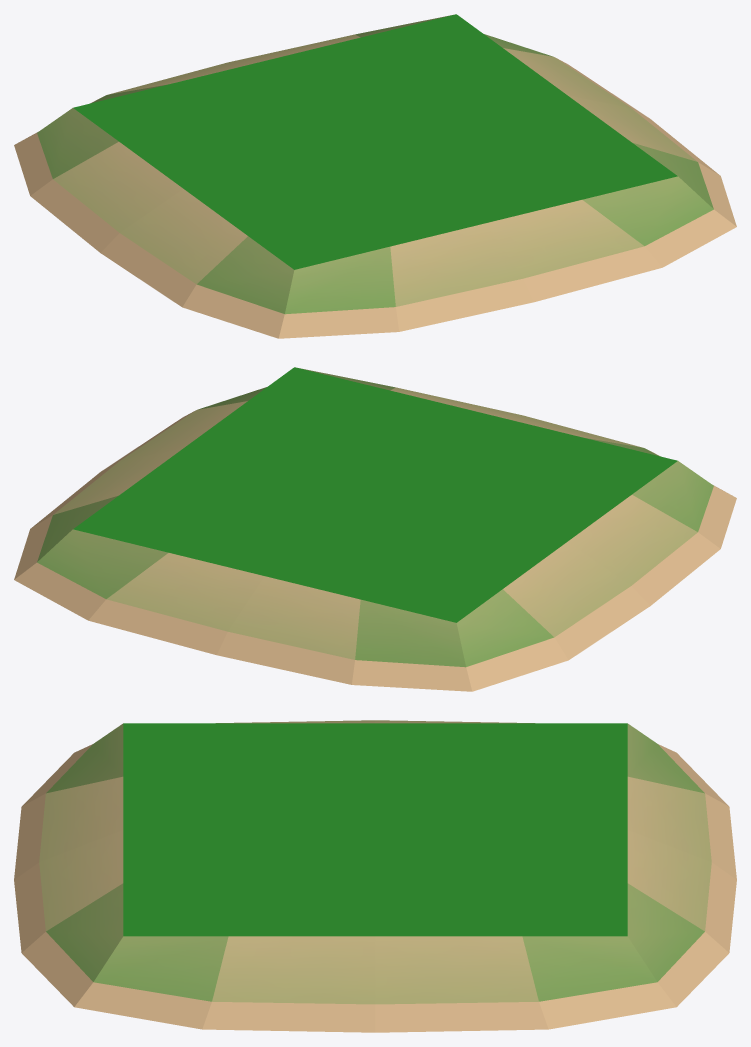
The model's file is KingdomIsland.fbx.
3 views of the same model, one above another, from view 1: azimuth 30°, elevation 25°; view 2: azimuth 150°, elevation 25°; view 3: azimuth 270°, elevation 25° (orthographic). The views are drawn at different scales.
Visible parts, largest first — view 1: Island; view 2: Island; view 3: Island.
Part boxes in pixels (x1,y1,x2,y2): Island: (14,14,736,338); Island: (14,367,736,691); Island: (14,720,736,1032).
Size of the model in its own units: 1293 by 100 by 1293.
1 material, 1 textured.
